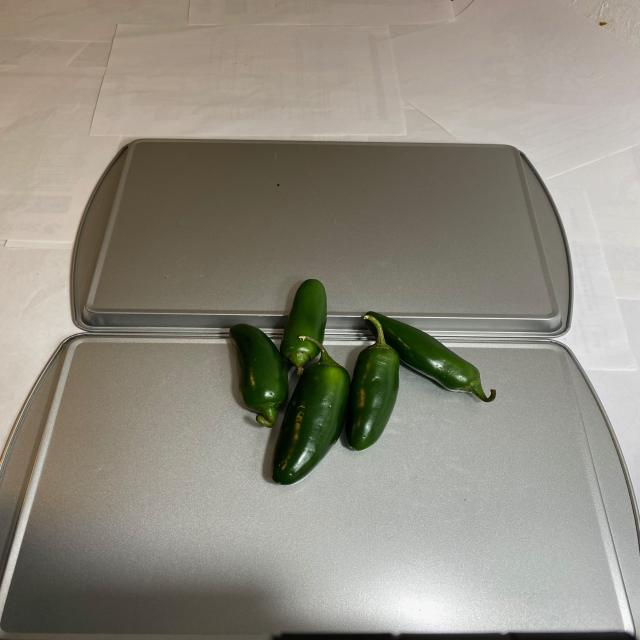chilli: (217, 275, 495, 484)
